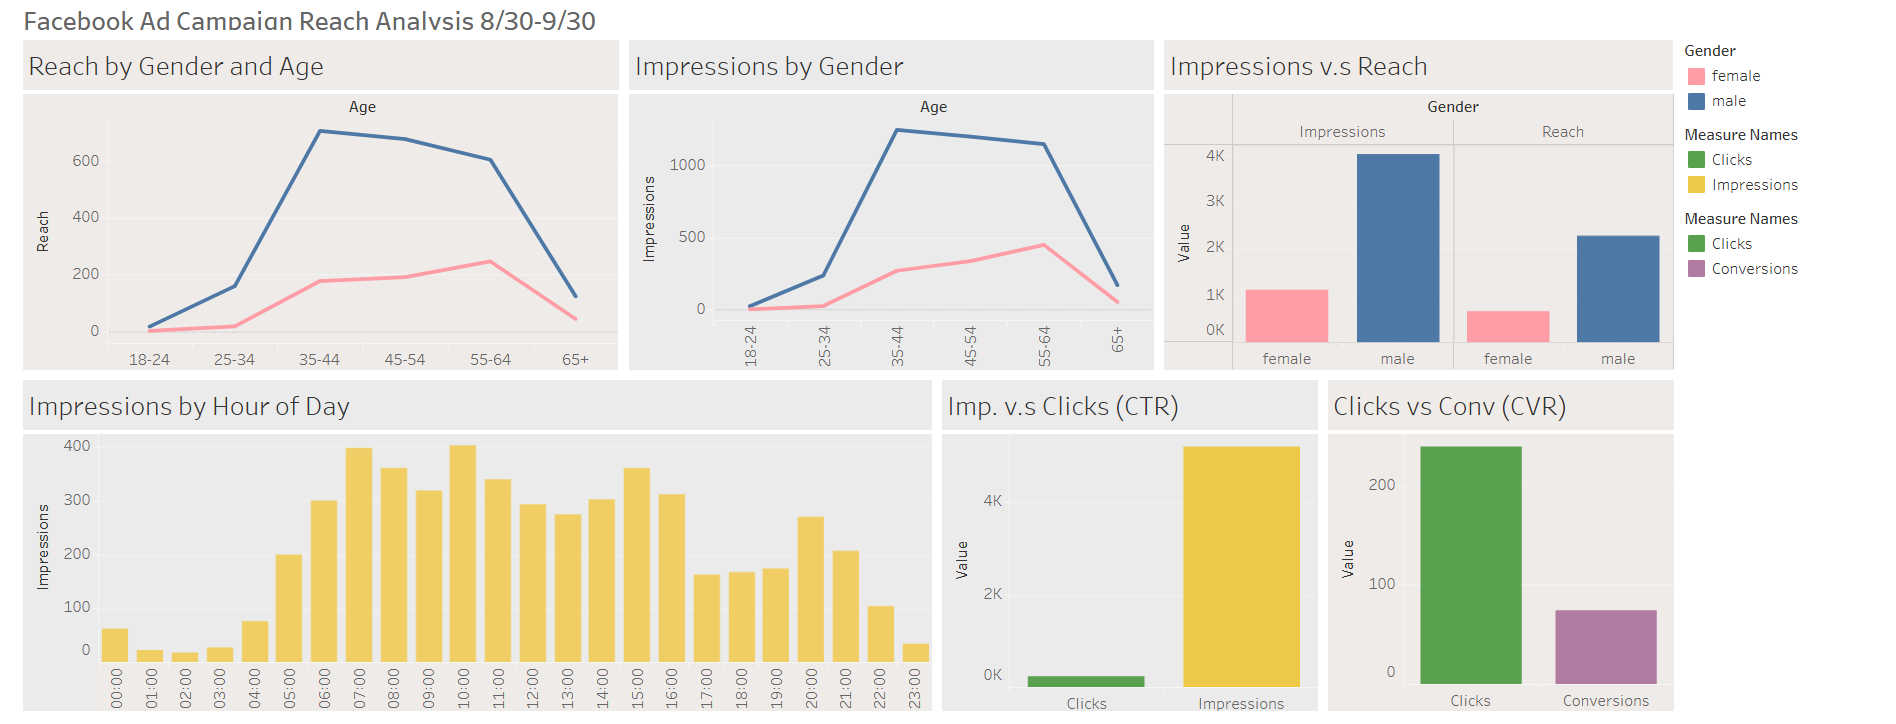

The page's visual inventory and layout, read from the dashboard file:
{"tool":"tableau","page":{"name":"Dashboard 2","canvas":[1000,1000],"units":"permille","ordinal":0},"visuals":[{"type":"image","param":"Image/league_logo3.jpg","box":[5.2,8.3,230.2,219.8]},{"type":"text","box":[235.4,8.3,758.2,100]},{"type":"text","box":[235.4,108.4,758.2,42.1]},{"type":"image","param":"Image/top.png","box":[236,151.5,71,75.6]},{"type":"text","box":[307,151.5,80.5,75.6]},{"type":"image","param":"Image/jungle.png","box":[388.8,151.5,69.7,75.6]},{"type":"text","box":[458.5,151.5,61.3,75.6]},{"type":"image","param":"Image/mid.png","box":[531.9,151.5,78.1,75.6]},{"type":"text","box":[609.9,151.5,76.6,75.6]},{"type":"image","param":"Image/supp.png","box":[687.9,151.5,81.9,75.6]},{"type":"text","box":[769.8,151.5,69,75.6]},{"type":"image","param":"Image/bottom.png","box":[840.1,151.5,43.8,75.6]},{"type":"text","box":[883.9,151.5,109,75.6]},{"type":"worksheet","title":"Sheet 1","mark":"Automatic","rows":["Name"],"cols":["Pick %","Pick %"],"box":[5.2,228.2,352.6,381.8]},{"type":"worksheet","title":"Sheet 2","mark":"Automatic","rows":["Name","Role"],"cols":["Win %","Win %"],"box":[357.8,228.2,419,381.8]},{"type":"worksheet","title":"Sheet 4","mark":"Shape","rows":["Name"],"cols":["Role"],"box":[776.8,228.2,218.1,763.5]},{"type":"worksheet","title":"Sheet 3","mark":"Automatic","rows":["Name"],"cols":["Ban %","Ban %"],"box":[5.2,609.9,352.6,381.8]},{"type":"worksheet","title":"Sheet 5","mark":"Automatic","rows":["Role"],"cols":["Win %","Win %"],"box":[357.8,609.9,419,381.8]}]}

Visuals, with their boxes on the dashboard's canvas, which has no fixed pixel size, in thousandths of its width and height (x1, y1, x2, y2). These are canvas units, not pixel positions in the 1896x724 screenshot, which may show the page scaled, cropped or inside an application window:
image: locate(5, 8, 235, 228)
text: locate(235, 8, 994, 108)
text: locate(235, 108, 994, 150)
image: locate(236, 152, 307, 227)
text: locate(307, 152, 388, 227)
image: locate(389, 152, 458, 227)
text: locate(458, 152, 520, 227)
image: locate(532, 152, 610, 227)
text: locate(610, 152, 686, 227)
image: locate(688, 152, 770, 227)
text: locate(770, 152, 839, 227)
image: locate(840, 152, 884, 227)
text: locate(884, 152, 993, 227)
"Sheet 1" worksheet: locate(5, 228, 358, 610)
"Sheet 2" worksheet: locate(358, 228, 777, 610)
"Sheet 4" worksheet (Shape marks): locate(777, 228, 995, 992)
"Sheet 3" worksheet: locate(5, 610, 358, 992)
"Sheet 5" worksheet: locate(358, 610, 777, 992)
